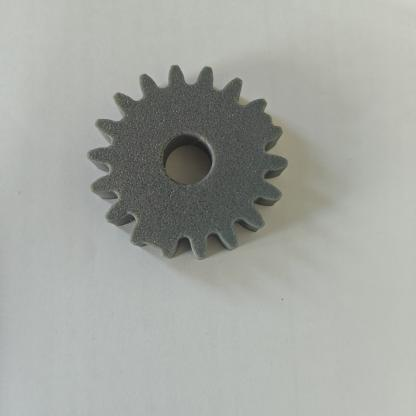defect: (118, 204, 202, 276), (232, 88, 310, 156)
gear: (79, 54, 322, 289)
